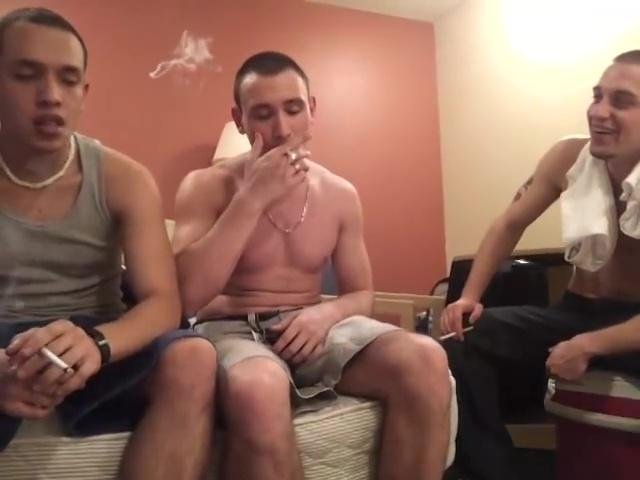cigarette: (38, 347, 75, 376), (437, 325, 476, 343), (286, 147, 297, 161)
